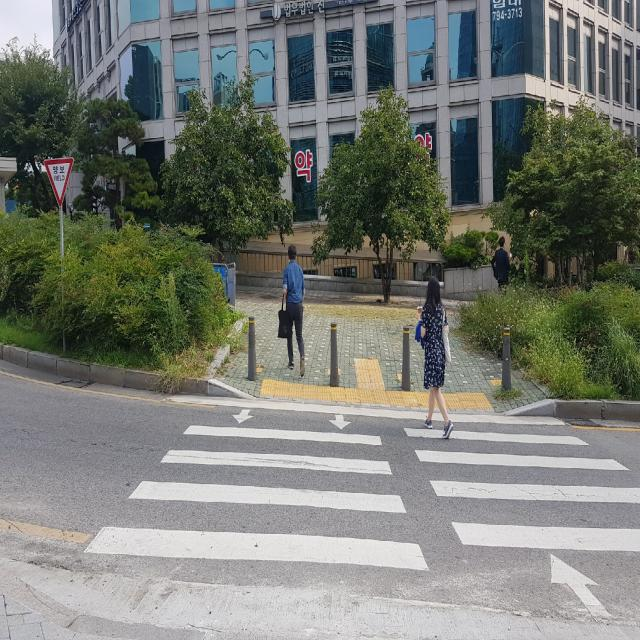횡단보도: (82, 409, 640, 618)
